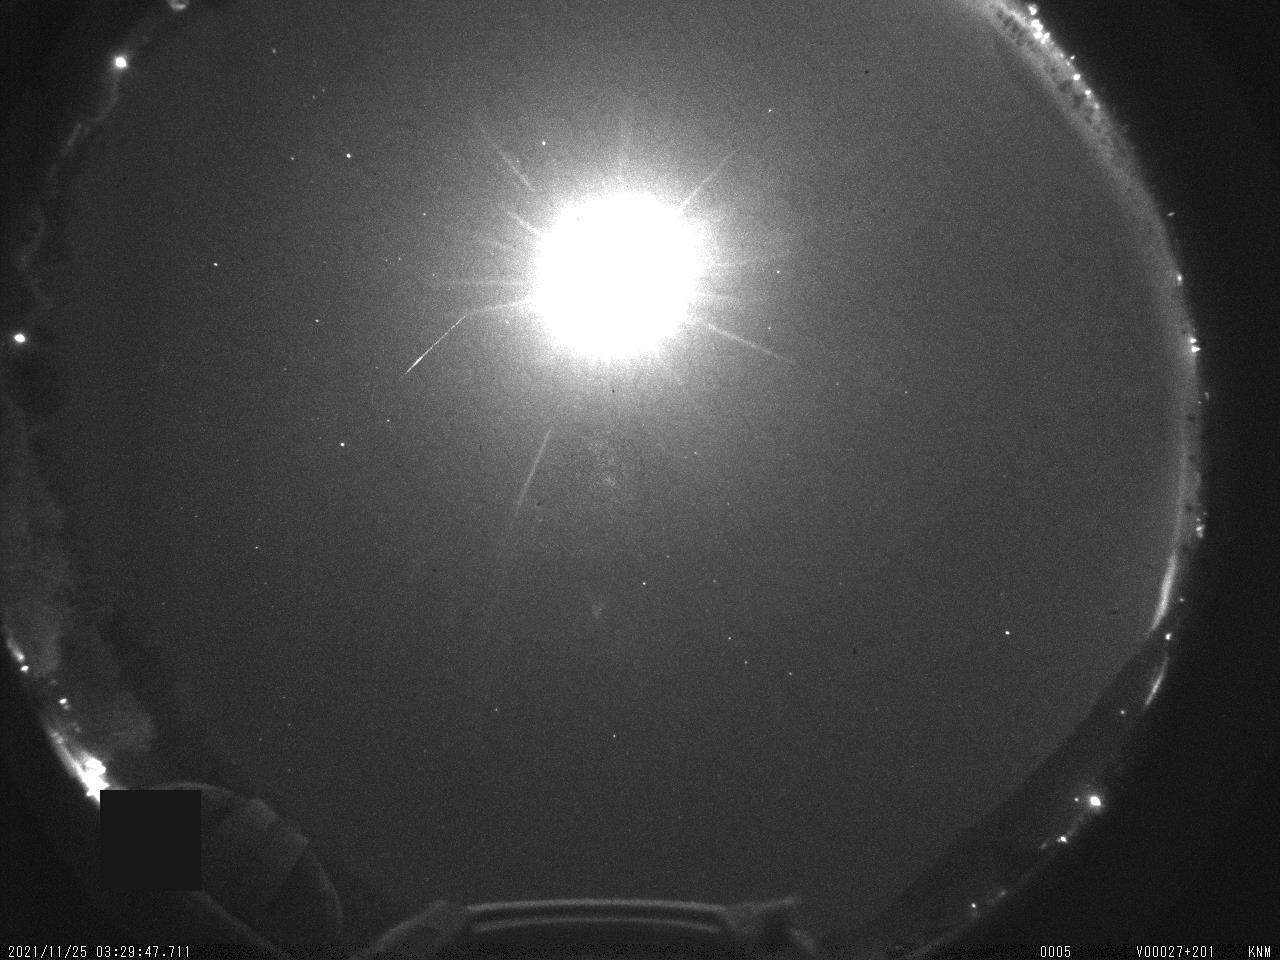meteor: (383, 308, 488, 385)
